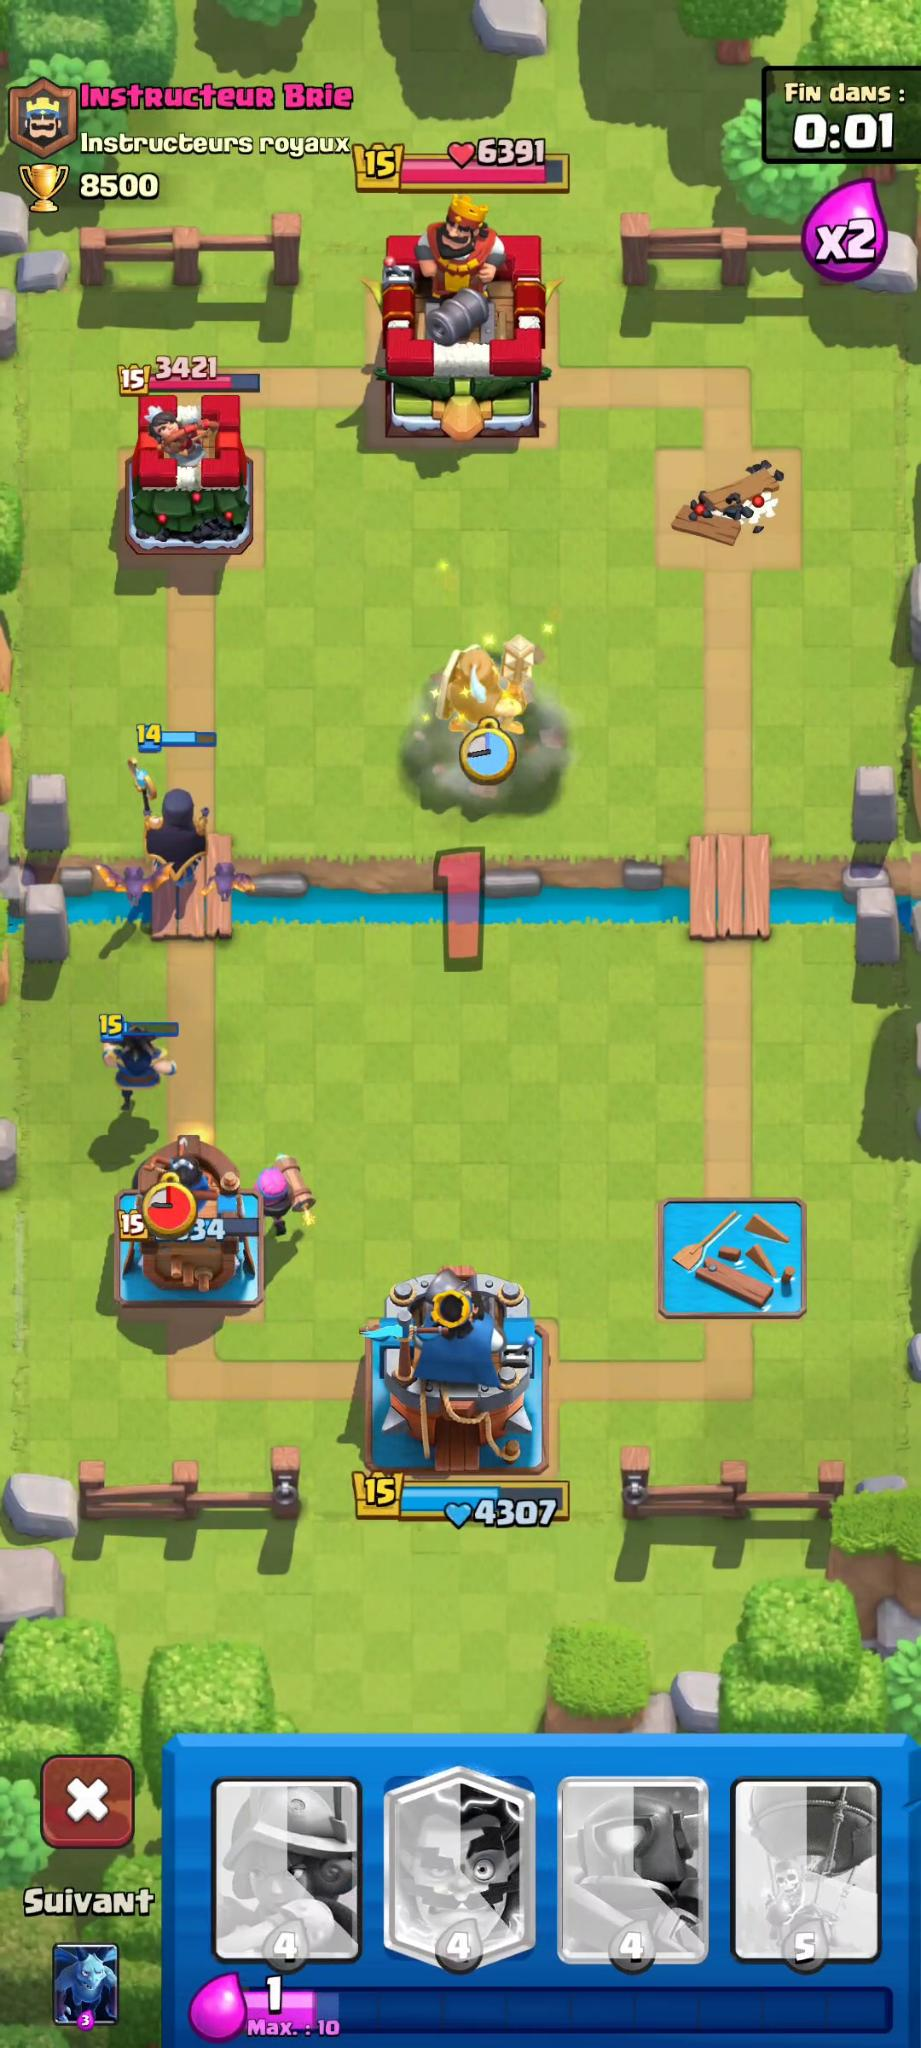bat: (108, 850, 182, 916), (202, 865, 261, 910)
